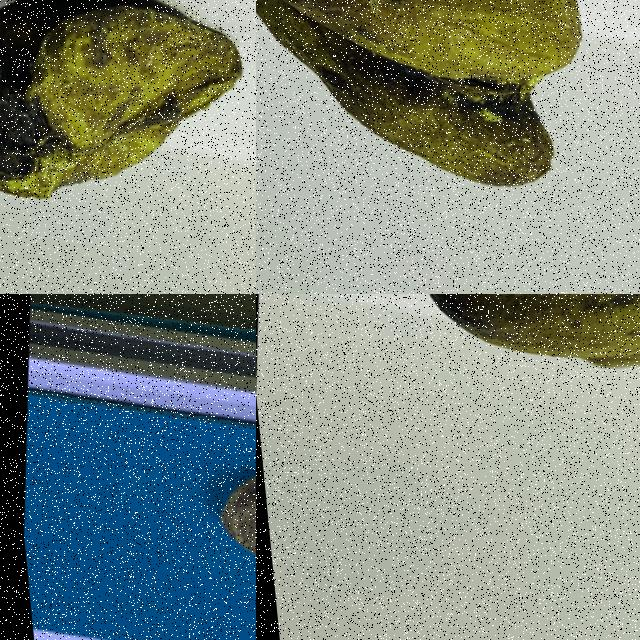Agglomerated_cocoabeans: (256, 0, 639, 213), (0, 0, 255, 267), (256, 294, 639, 465)
Flat_cocoabeans: (148, 426, 255, 600)
